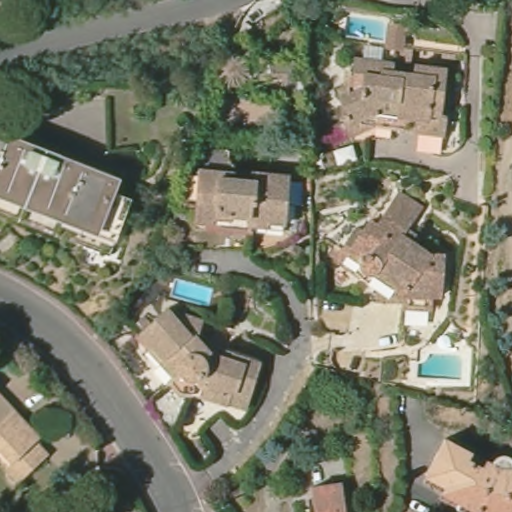pool: (412, 351, 467, 381), (169, 277, 215, 310), (344, 14, 390, 45)
